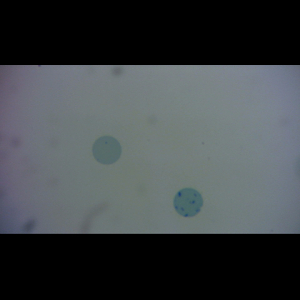aggregate reticulocyte: (173, 187, 204, 218)
punctate reticulocyte: (91, 135, 123, 166)
